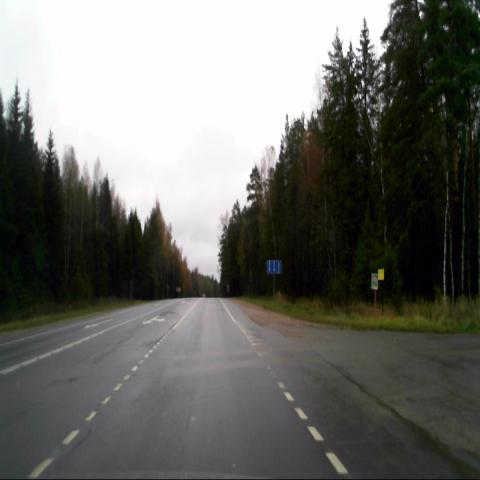5_15_7: (266, 259, 282, 276)
